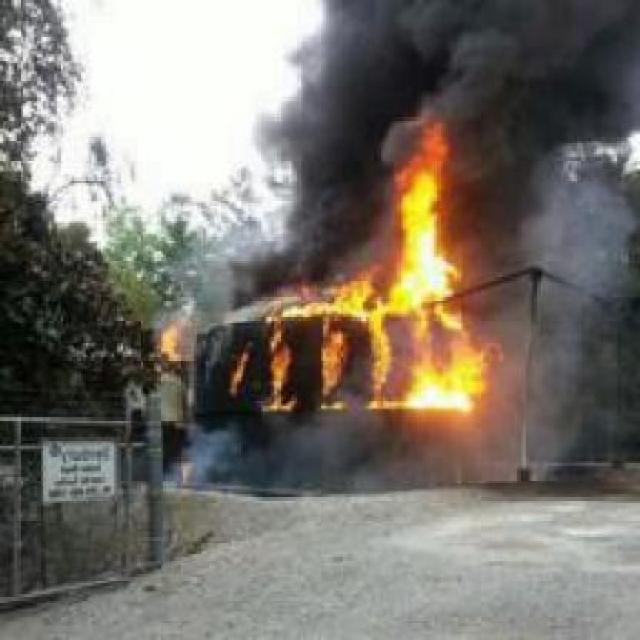Fire: (367, 304, 495, 412), (387, 130, 460, 304), (274, 275, 372, 316), (318, 320, 351, 408), (265, 324, 296, 412)
Smoke: (256, 0, 386, 272), (387, 0, 640, 130)
